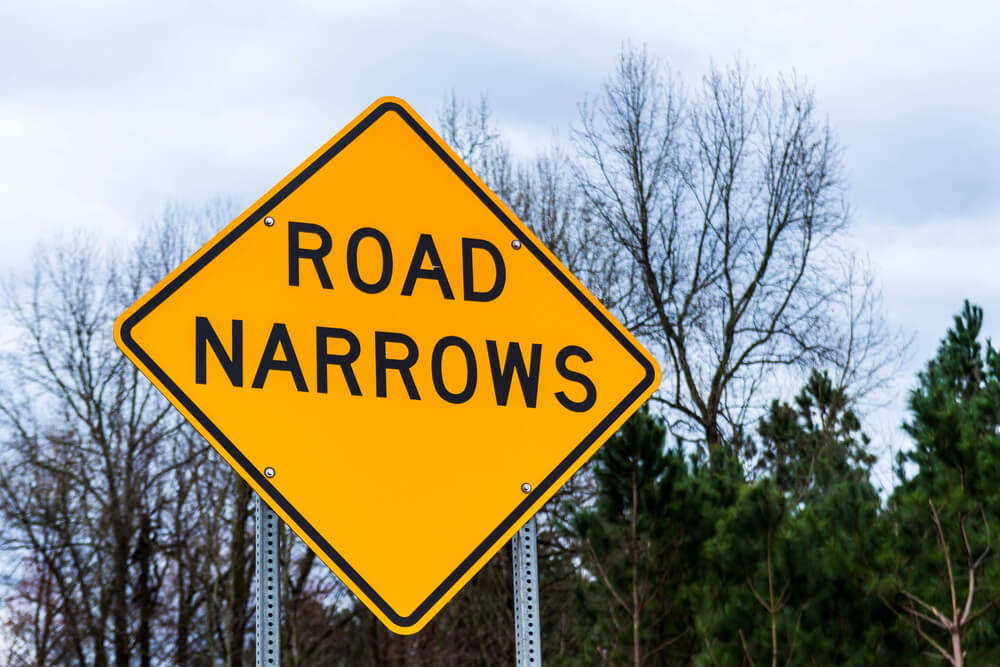narrow-road: (180, 216, 604, 426)
